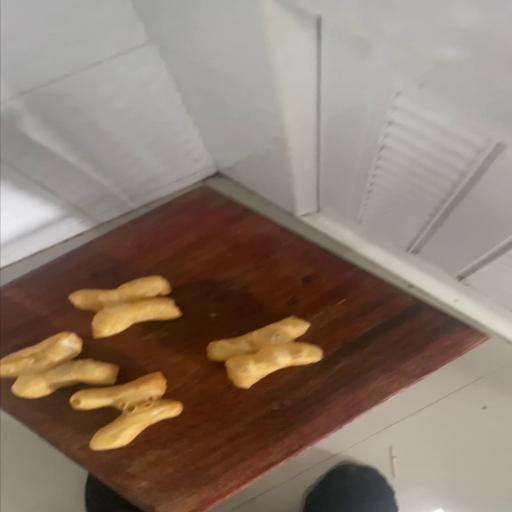street_golden_defect: (70, 374, 184, 449), (207, 316, 322, 387)
street_golden_good: (2, 332, 118, 398), (71, 276, 180, 337)
